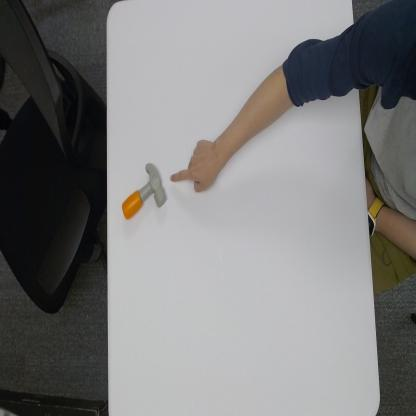Arm: (218, 29, 356, 174)
Hammer: (122, 162, 167, 220)
Hand: (170, 139, 218, 194)
